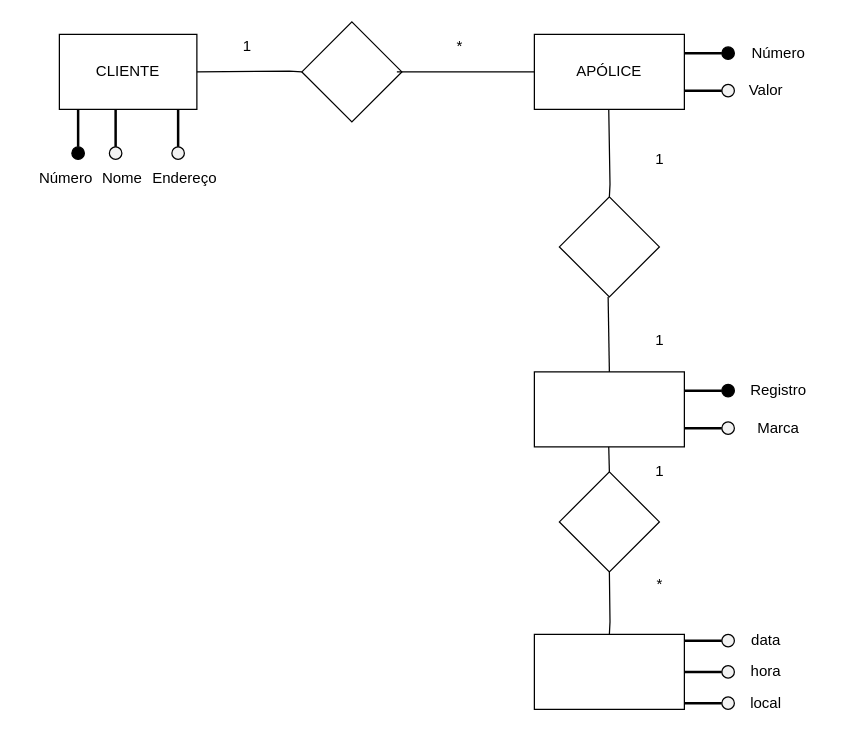
This 843x744 diagram has some shape labels left out. Each missing label, with the centre of its shape:
ACIDENTES: the point at 608,671
CARRO: the point at 608,409
